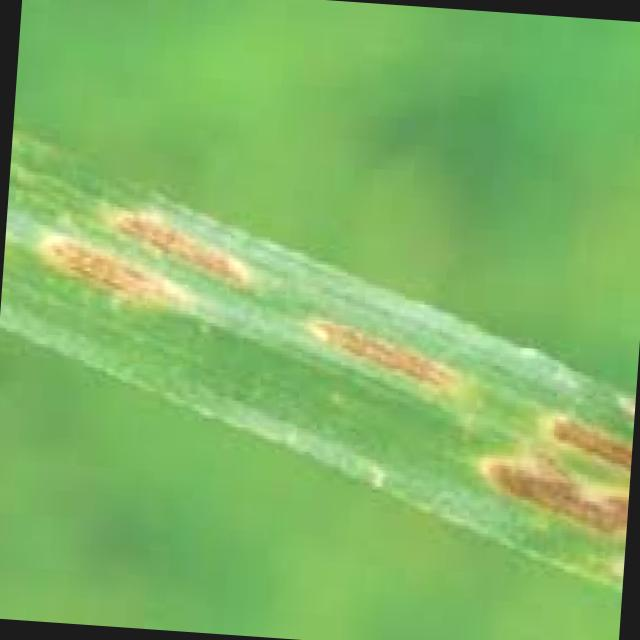leaf_blight: (1, 133, 630, 589)
